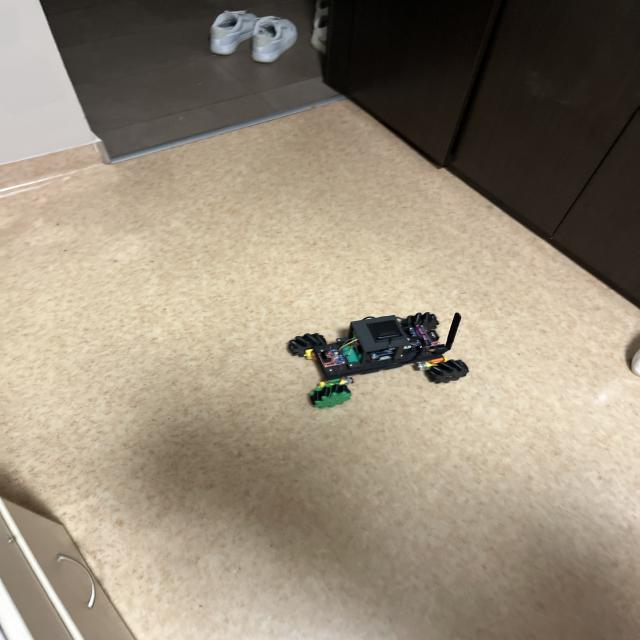robot: (288, 312, 469, 408)
